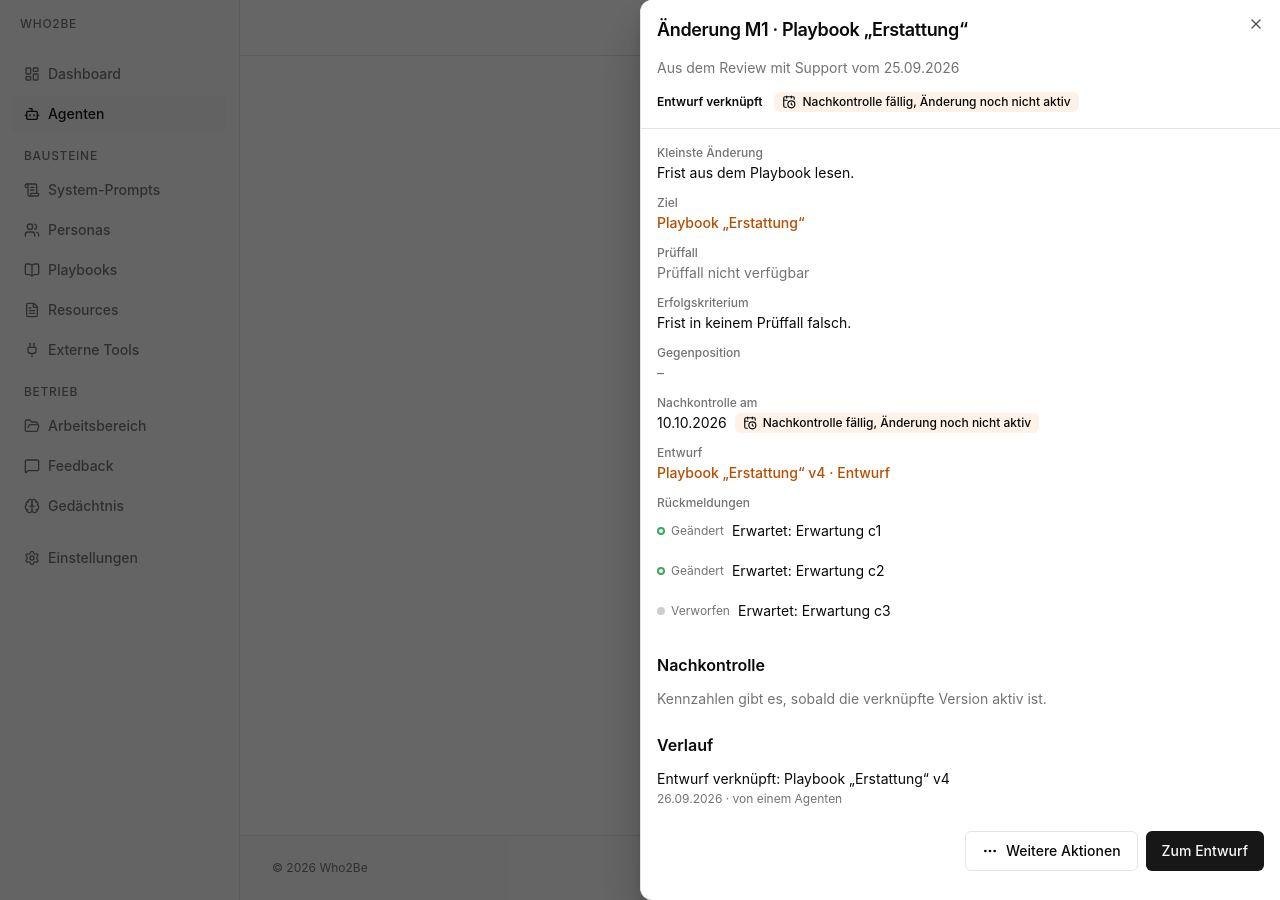
ChangeActions: Leiste je Zustand › Entwurf verknüpft: „Zum Entwurf“ (default, Link), im Menü „Anderen Entwurf verknüpfen…“ und „Zurückziehen…“
The width and height of the screenshot is (1280, 900).
Press the mouse on the button with test id "change-more": (1051, 851) x1=965 y1=831 x2=1138 y2=871
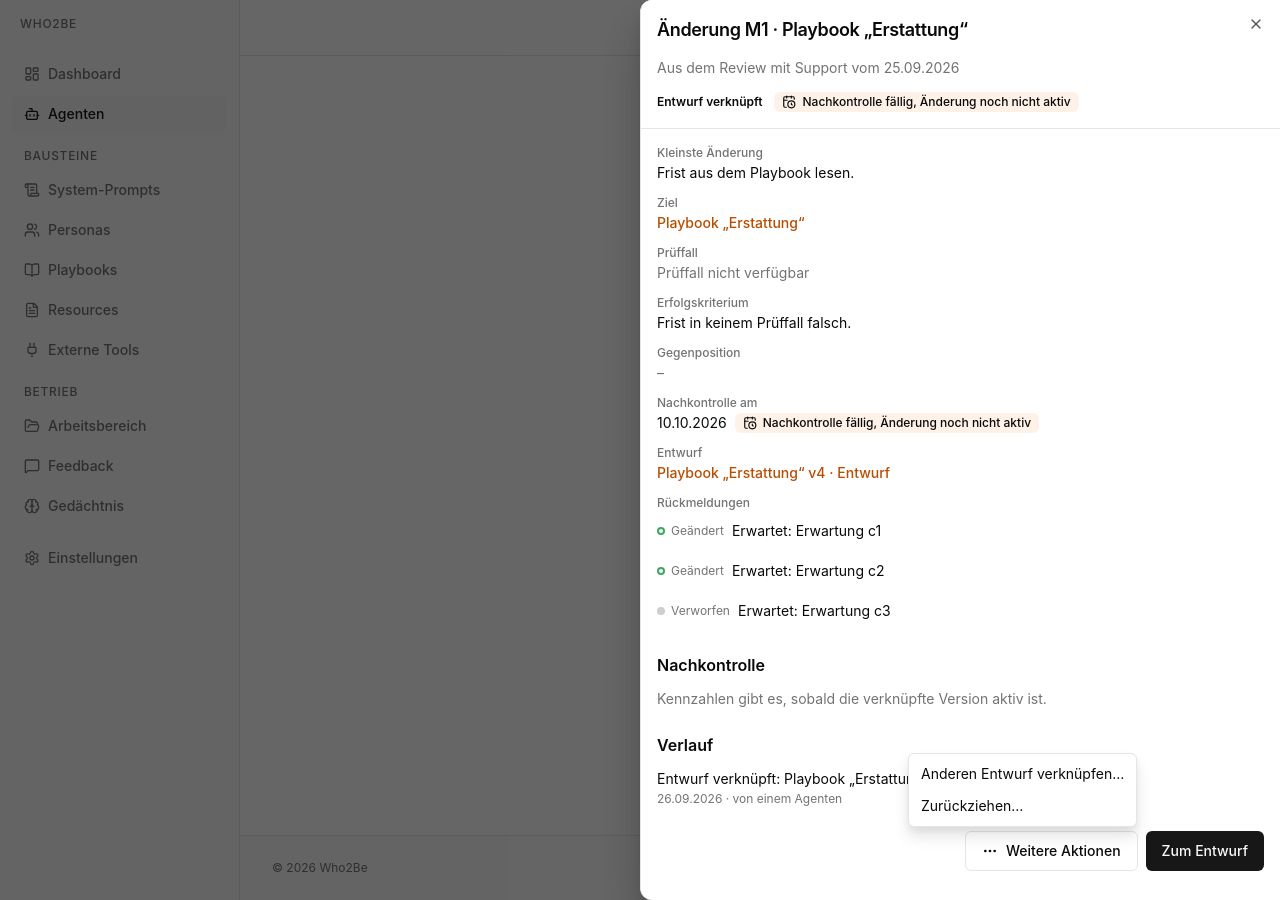
Expected: the menu items read "Anderen Entwurf verknüpfen…", "Zurückziehen…", in this order, x1=921 y1=765 x2=1124 y2=782; x1=921 y1=797 x2=1023 y2=814
